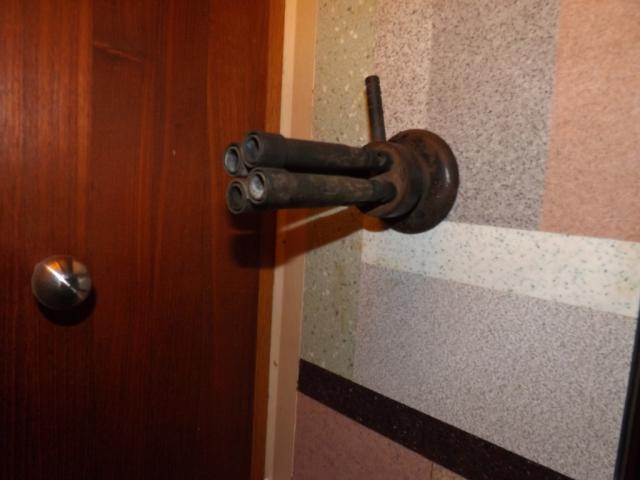Door-handle: (31, 256, 92, 310)
